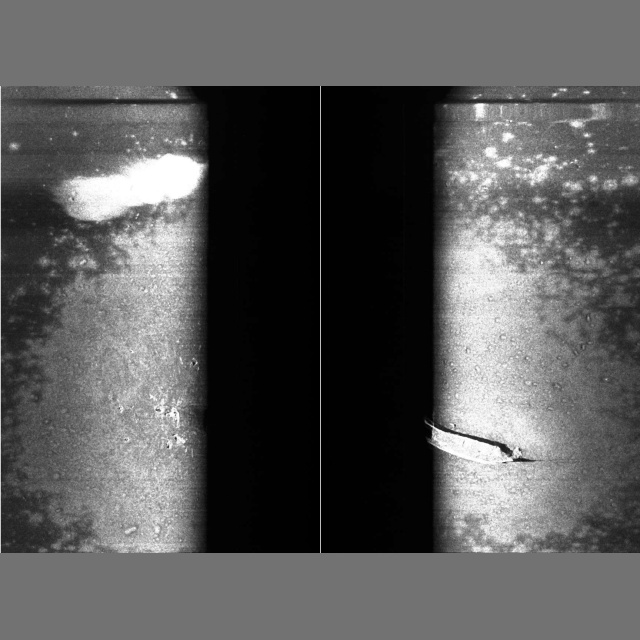Shipwreck: (119, 350, 523, 466)
